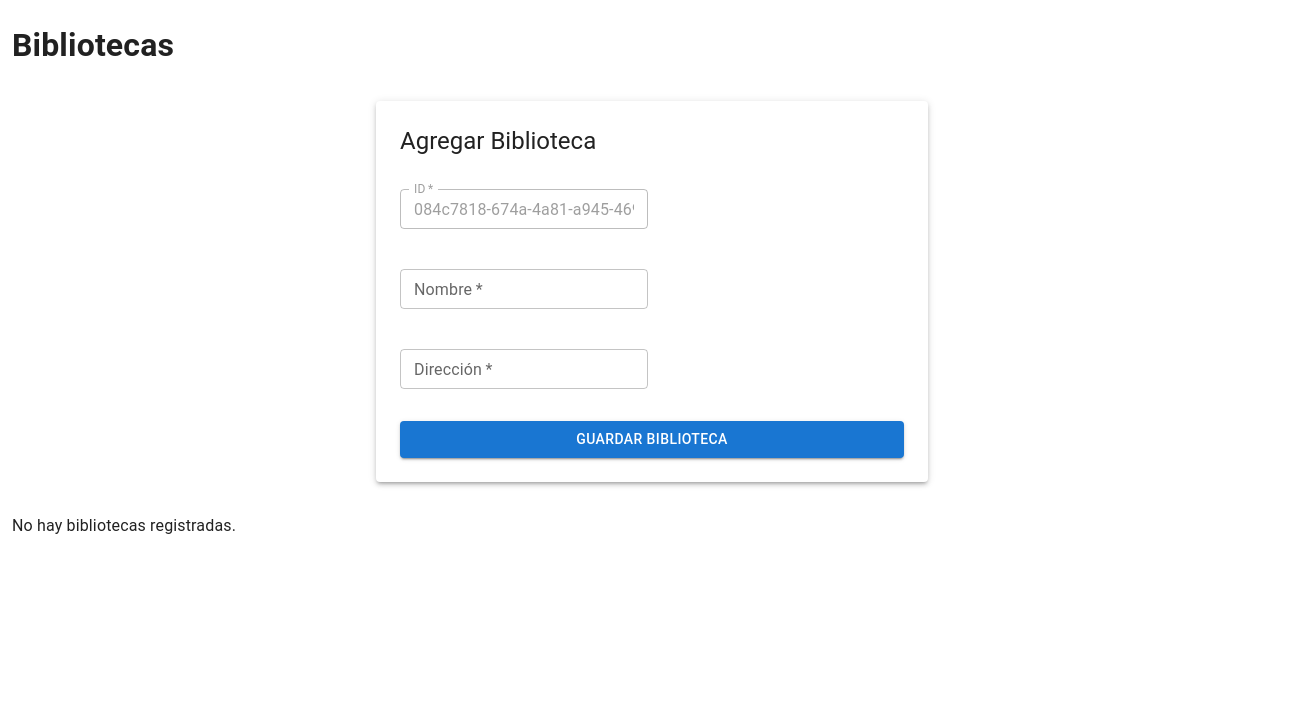
Scenario: Bibliotecas - Test de Integración › test 2: debe agregar una biblioteca al llenar y enviar el formulario
Type "Biblioteca Central" into the field labelled "Nombre *" at (524, 290), box [400,270,648,310]
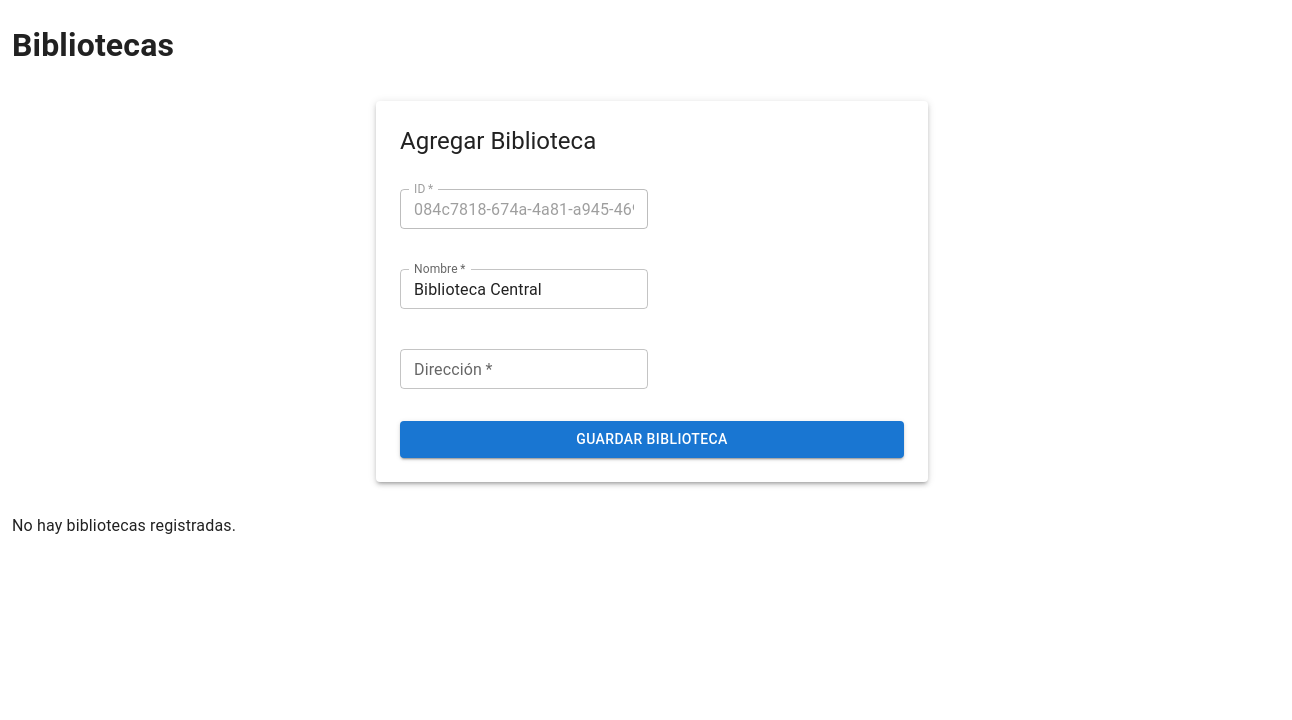
Type "Calle Principal 123" into the field labelled "Dirección *" at (524, 370), box [400,350,648,390]
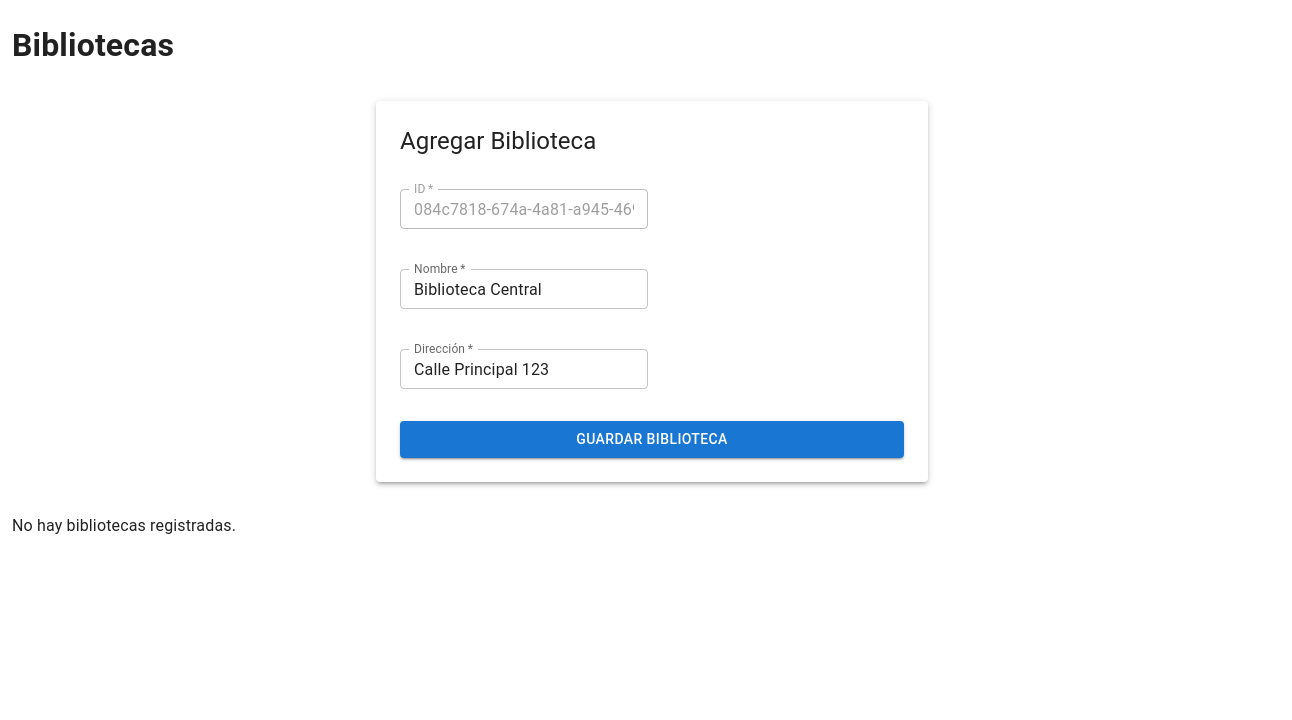
Click the button "Guardar Biblioteca" at (652, 440), box [400,422,904,458]
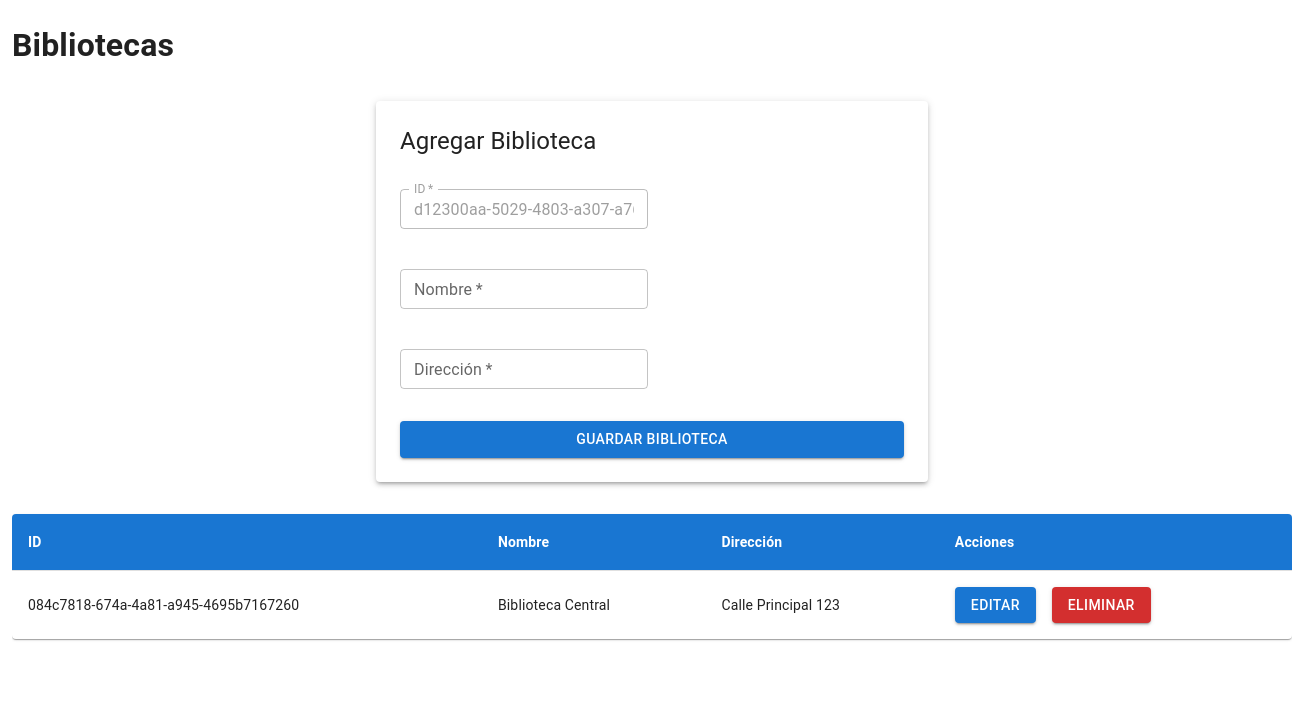
Expected: the text "Biblioteca Central" is shown, [482,570,705,640]
Expected: the text "Calle Principal 123" is shown, [705,570,939,640]
Expected: the text "No hay bibliotecas registradas" is gone
